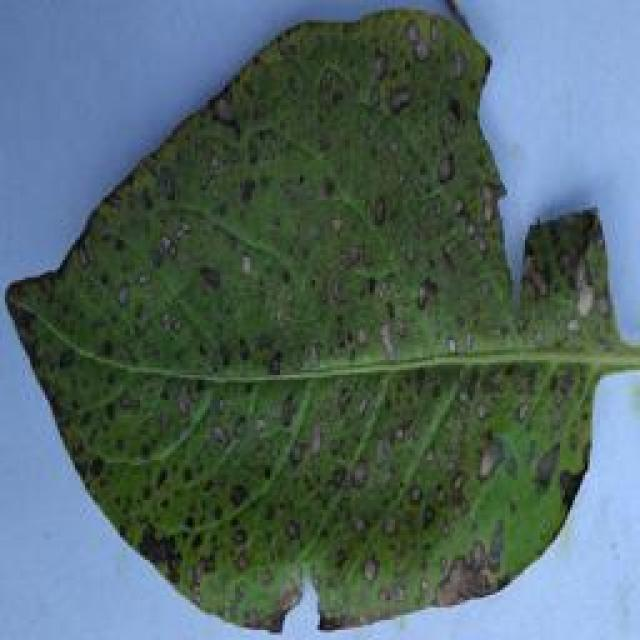Potato_Early_Blight: (7, 5, 633, 634)
